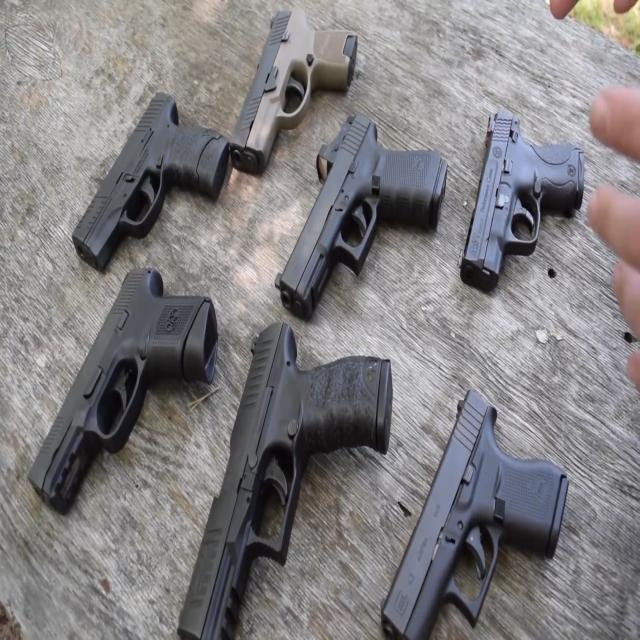handgun: (169, 309, 411, 633), (365, 372, 579, 634), (24, 268, 230, 530), (269, 112, 453, 321), (81, 94, 236, 268), (458, 102, 591, 290), (214, 0, 361, 159)
